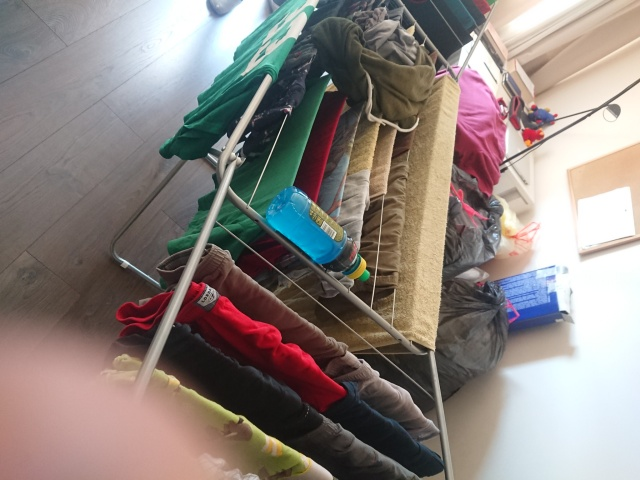Vindi Iso Sport Forest Strawberries 500mL: (263, 183, 371, 283)
